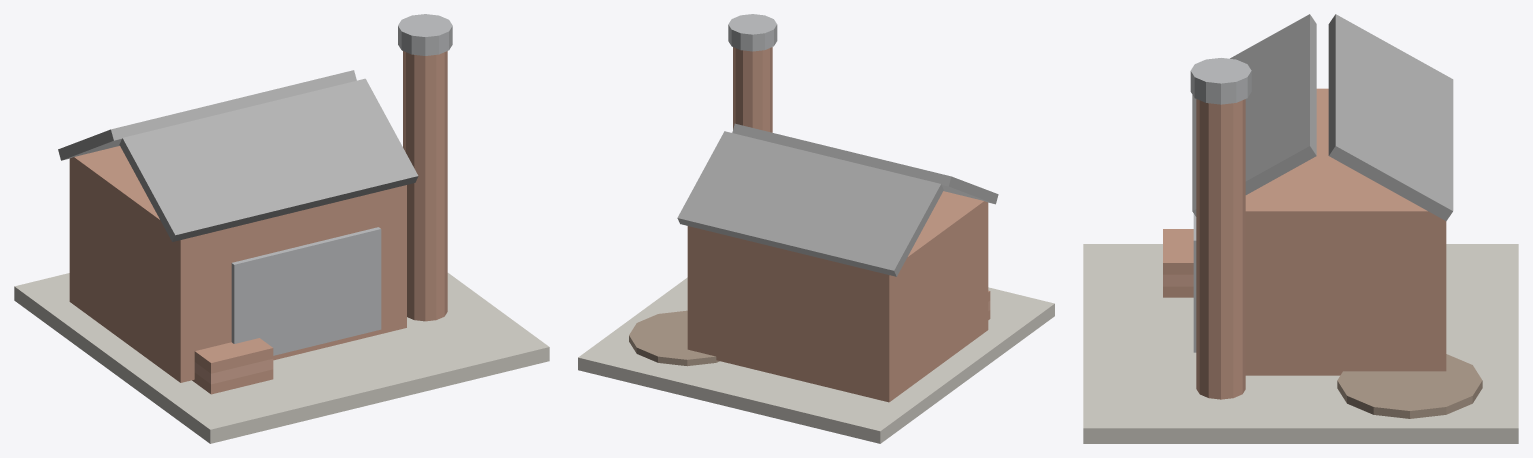
File: BRICKWORKS.glb
3 views of the same model, side by side, from view 1: azimuth 30°, elevation 25°; view 2: azimuth 150°, elevation 25°; view 3: azimuth 270°, elevation 25° (orthographic). The views are drawn at different scales.
Visible parts, largest first — view 1: BRICKWORKS; view 2: BRICKWORKS; view 3: BRICKWORKS.
Part boxes in pixels (left/top/right/bottom): BRICKWORKS: left=14, top=14, right=549, bottom=443; BRICKWORKS: left=578, top=14, right=1054, bottom=443; BRICKWORKS: left=1083, top=14, right=1518, bottom=443.
Size of the model in its own units: 3 by 2.58 by 3.
